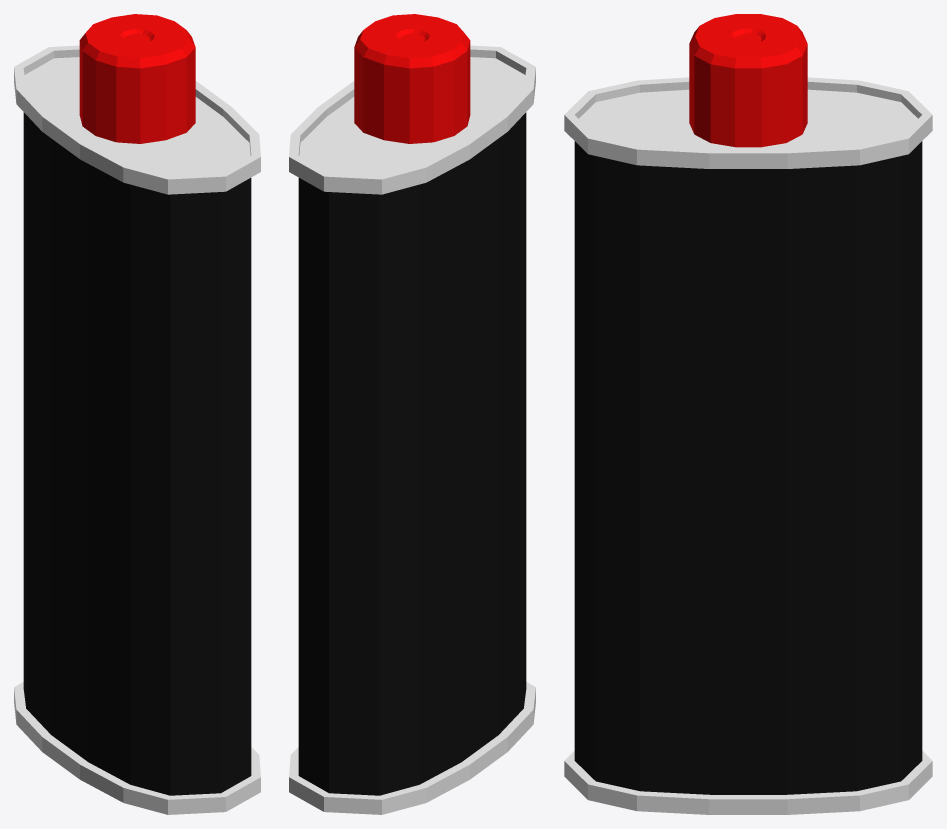
The model's file is oilcan_small.fbx.
3 views of the same model, side by side, from view 1: azimuth 30°, elevation 25°; view 2: azimuth 150°, elevation 25°; view 3: azimuth 270°, elevation 25° (orthographic). The views are drawn at different scales.
Parts seen in each view (by area): view 1: oilcan_small; view 2: oilcan_small; view 3: oilcan_small.
Boxes of the visible parts, x1,y1,x2,y2 form: oilcan_small: (14,14,260,814); oilcan_small: (289,14,535,814); oilcan_small: (564,14,932,814).
Bounding box in the file's own units: 26.28 × 118 × 53.
